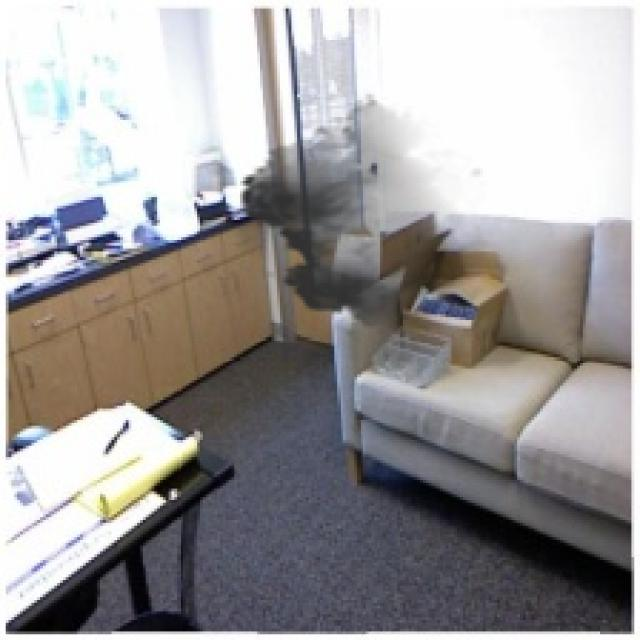smoke: (229, 92, 497, 334)
